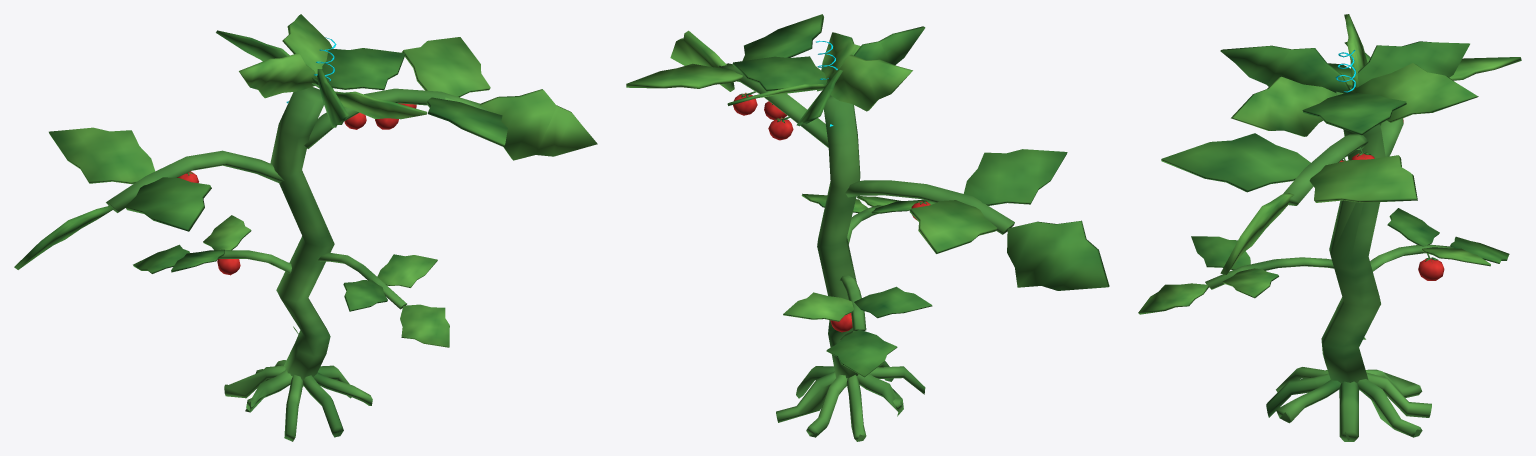
File: tomato_stage_1.glb
3 renders of one model, left to right at view 1: azimuth 30°, elevation 25°; view 2: azimuth 150°, elevation 25°; view 3: azimuth 270°, elevation 25°, orthographic. The views are drawn at different scales.
Parts seen in each view (by area): view 1: tomato_stage_1; view 2: tomato_stage_1; view 3: tomato_stage_1.
Boxes of the visible parts, x1,y1,x2,y2 form: tomato_stage_1: (14,14,597,441); tomato_stage_1: (626,14,1109,441); tomato_stage_1: (1138,14,1521,441).
Size of the model in its own units: 1.11 by 0.7525 by 0.6857.
Materials: 1 (1 with a texture image).
